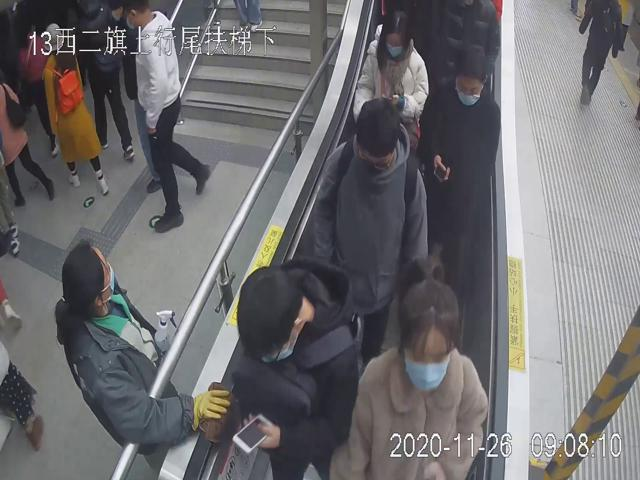person: (53, 238, 231, 456), (327, 258, 488, 480), (314, 97, 429, 361), (230, 252, 358, 456), (122, 0, 211, 232), (416, 42, 501, 283), (351, 0, 429, 141)
